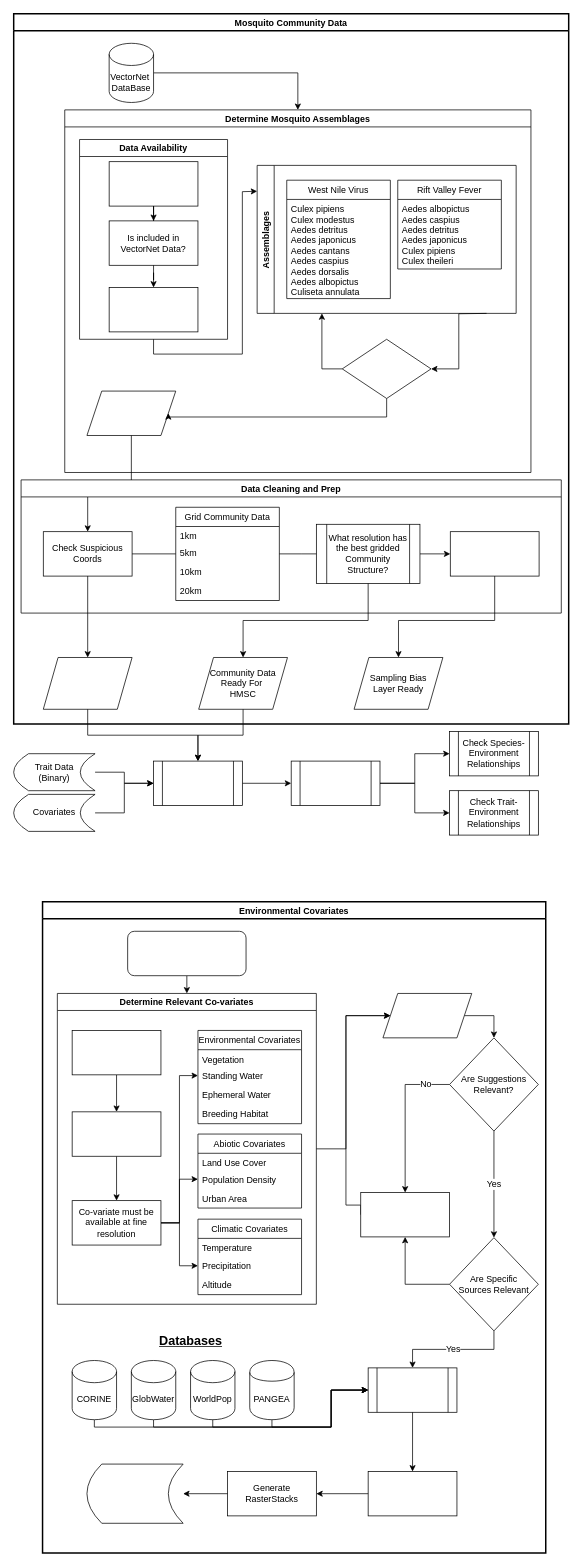
Image size: 582x1566. Some labels were removed from this diagram. Each missing label, with the centre of its shape:
"Assemblage Data" belongs at point (131, 412).
"Co-variate Layers Ready for Modelling" belongs at point (134, 1493).
"Co-variate must be one of three categories" belongs at point (116, 1052).
"Co-variate must have proven impact on mosquito populations" belongs at point (116, 1133).
"Compare Accuracy" belongs at point (335, 782).
"Compile Data From Sources" belongs at point (412, 1389).
"Compiled List of Covariates" belongs at point (427, 1015).
"Consult Experts" belongs at point (386, 368).
"Determine 5-10 Co-variates" belongs at point (186, 953).
"Discuss Alternatives and Gather Data" belongs at point (405, 1214).
"Generate Sampling Bias Layer at Chosen Resolution" belongs at point (494, 553).
"Has more than 30 absence points, and 100 presence points?" belongs at point (153, 309).
"Is known or proven vector?" belongs at point (153, 183).
"Model" belongs at point (197, 782).
"Species Data Ready For Biomod2" belongs at point (87, 683).
"Standardise Data Resolution" belongs at point (412, 1493).
